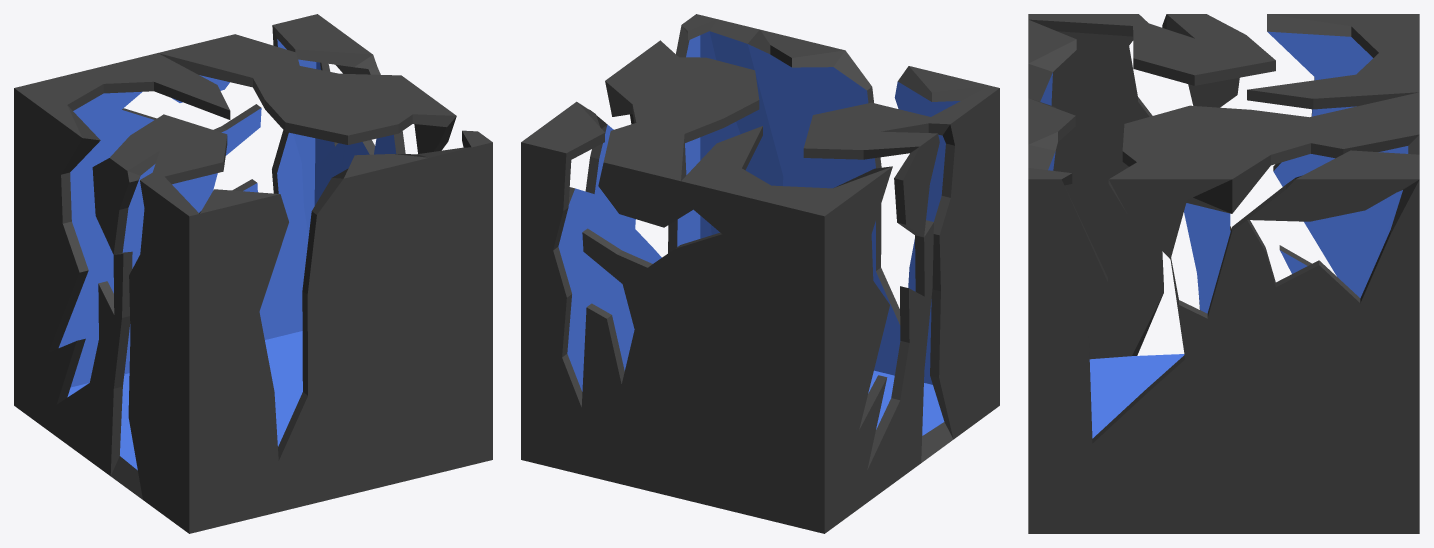
File: BlueCrack2.fbx
3 views of the same model, side by side, from view 1: azimuth 30°, elevation 25°; view 2: azimuth 150°, elevation 25°; view 3: azimuth 270°, elevation 25° (orthographic). The views are drawn at different scales.
Parts seen in each view (by area): view 1: Blue_Crack2; view 2: Blue_Crack2; view 3: Blue_Crack2.
Boxes of the visible parts, box(x1,y1,x2,y2) form: Blue_Crack2: box(14, 14, 492, 533); Blue_Crack2: box(521, 14, 999, 533); Blue_Crack2: box(1028, 14, 1419, 533).
Bounding box in the file's own units: 200 × 200 × 200.
